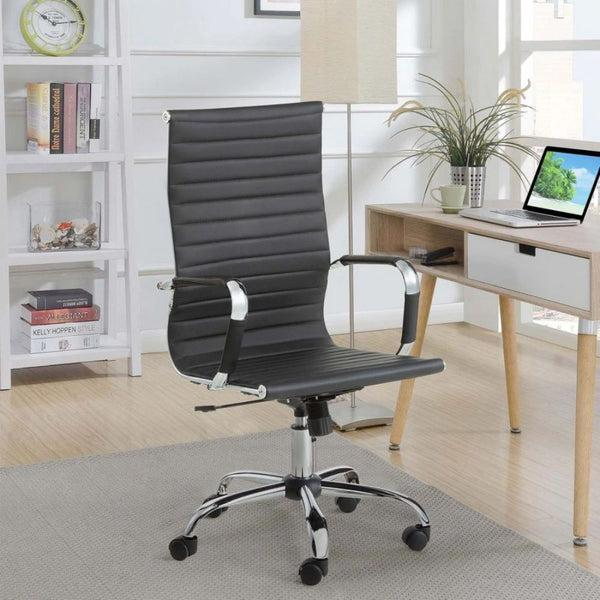chair: (134, 79, 447, 593)
